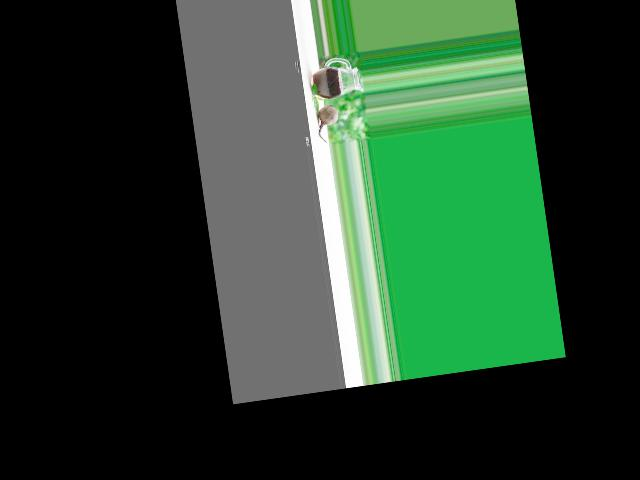beet: (314, 103, 341, 142)
